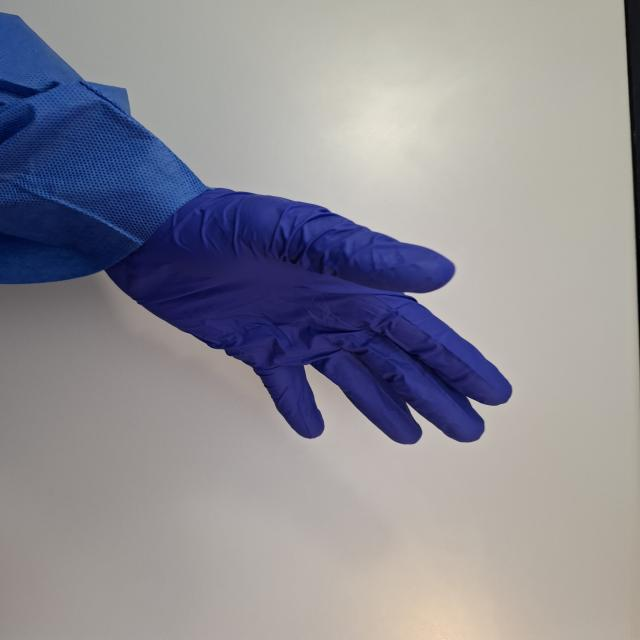glove_on: (103, 179, 515, 448)
